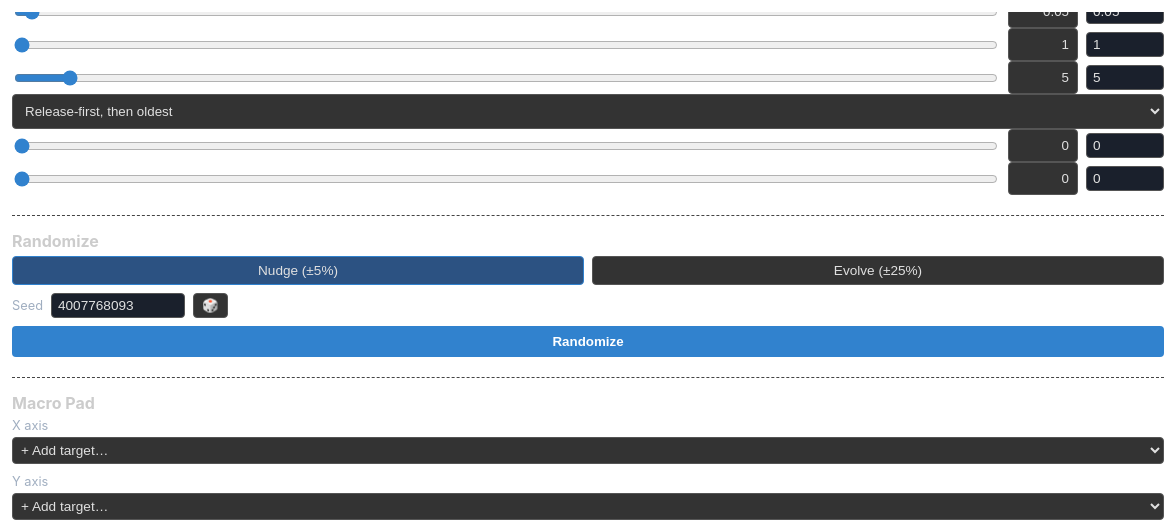
Test case: E12 macro pad — target assignment › is session-only: switching to a different instrument resets the assignment
(page scrolled)
Select "Filter:cutoff" in the dropdown with test id "macro-add-x": (588, 450) [12, 437, 1164, 464]
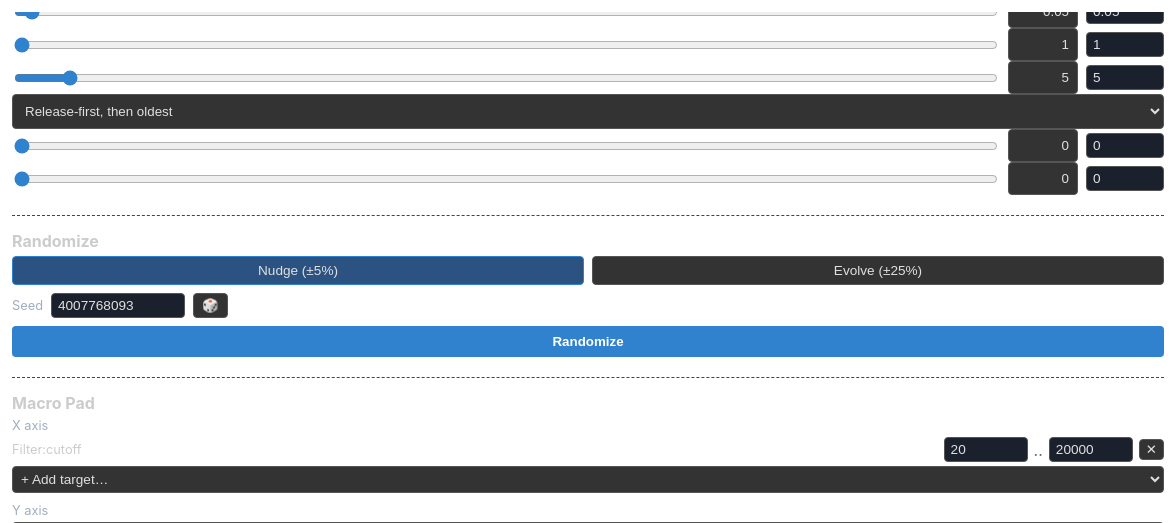
Expected: the button with test id "macro-remove-x-flt-1-cutoff" is shown, [1139, 439, 1164, 460]
